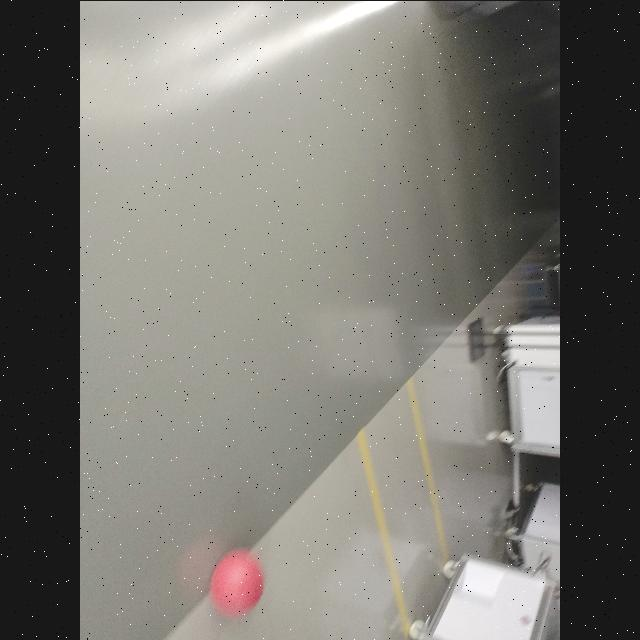R: (209, 548, 265, 616)
